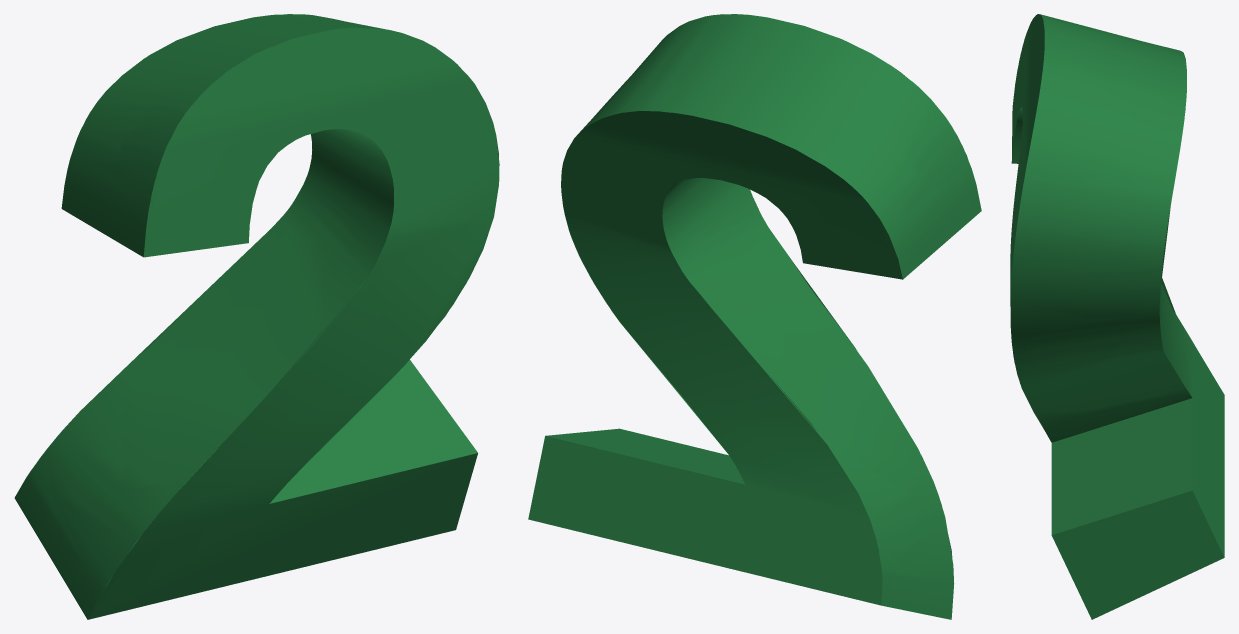
File: item_2.glb
3 views of the same model, side by side, from view 1: azimuth 30°, elevation 25°; view 2: azimuth 150°, elevation 25°; view 3: azimuth 270°, elevation 25° (orthographic). The views are drawn at different scales.
Parts seen in each view (by area): view 1: Text; view 2: Text; view 3: Text.
Part boxes in pixels (x1=…): Text: x1=14, y1=14, x2=499, y2=619; Text: x1=528, y1=14, x2=981, y2=619; Text: x1=1010, y1=14, x2=1224, y2=619.
Size of the model in its own units: 0.3359 by 0.4849 by 0.1864.
